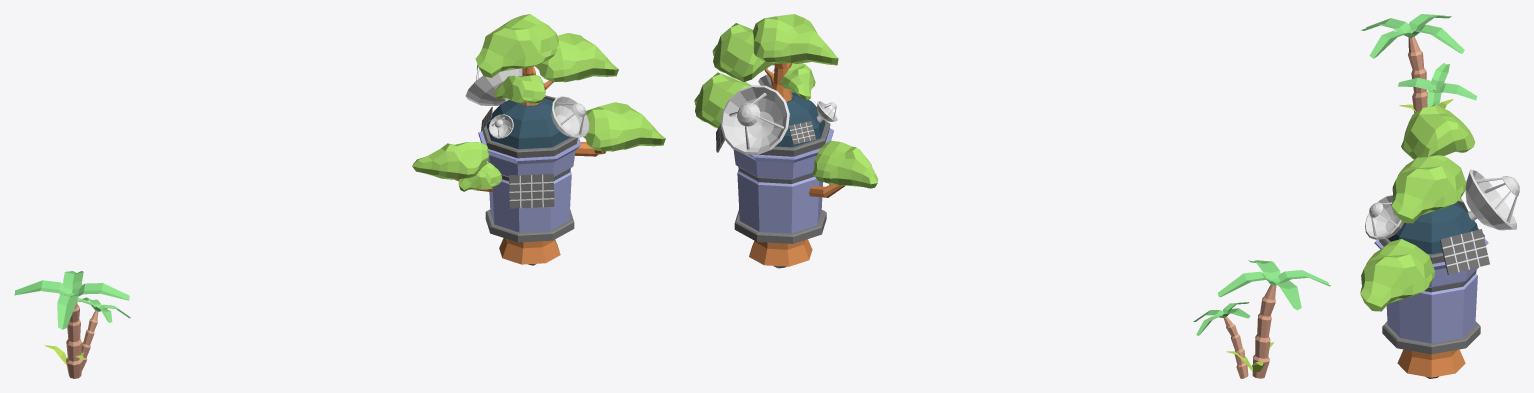
File: bazafinal.fbx
3 views of the same model, side by side, from view 1: azimuth 30°, elevation 25°; view 2: azimuth 150°, elevation 25°; view 3: azimuth 270°, elevation 25° (orthographic). The views are drawn at different scales.
Parts seen in each view (by area): view 1: Circle, Plane, Plane.001; view 2: Circle, Plane, Plane.001; view 3: Circle, Plane, Plane.001.
Part boxes in pixels (bbox=[...]): Circle: bbox=[412, 14, 665, 264]; Plane: bbox=[14, 271, 129, 378]; Plane.001: bbox=[77, 297, 130, 370]; Circle: bbox=[694, 14, 878, 266]; Plane: bbox=[1218, 260, 1330, 378]; Plane.001: bbox=[1193, 302, 1249, 378]; Circle: bbox=[1360, 104, 1519, 377]; Plane: bbox=[1361, 14, 1464, 113]; Plane.001: bbox=[1398, 63, 1477, 106].
Bounding box in the file's own units: 8141 × 3075 × 1705.
